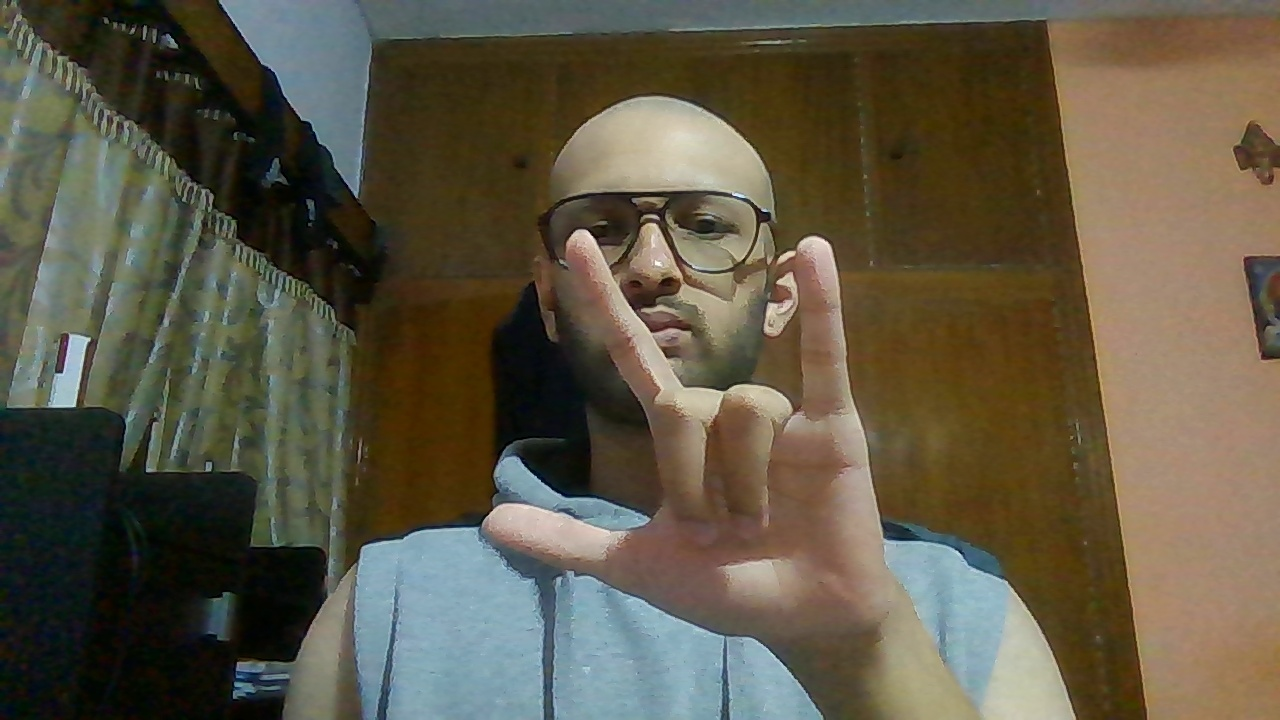I Love You: (476, 226, 915, 636)
